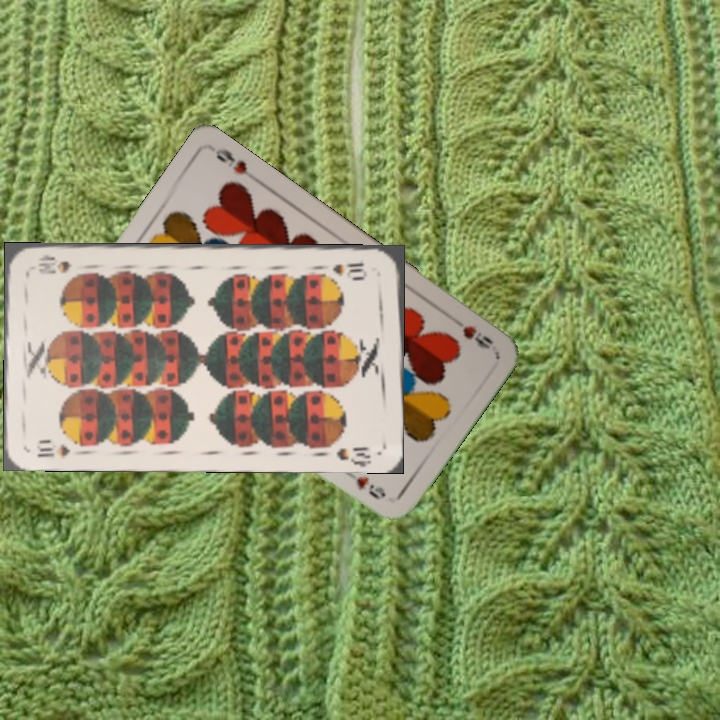H9: (458, 321, 496, 352)
S10: (32, 435, 72, 460), (328, 258, 370, 279)
